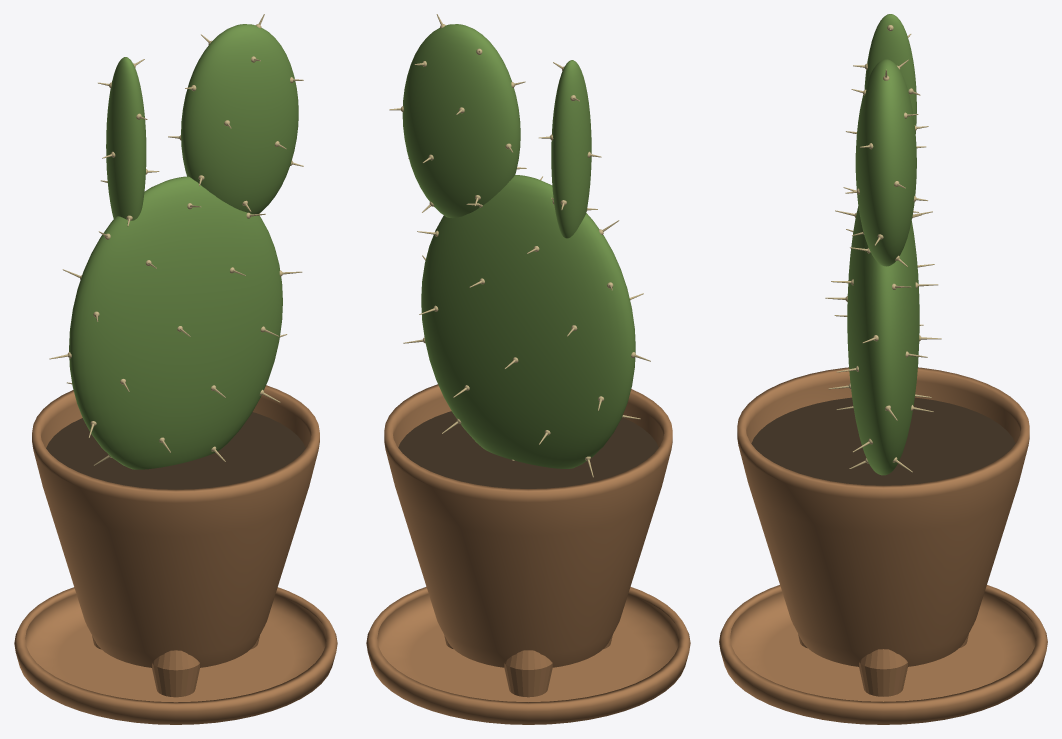
File: A-NEW-20261027-POTTED-CACTUS-001_LOD0_R1.fbx
3 views of the same model, side by side, from view 1: azimuth 30°, elevation 25°; view 2: azimuth 150°, elevation 25°; view 3: azimuth 270°, elevation 25° (orthographic).
Visible parts, largest first — view 1: main fleshy cactus pad, thick open pot, plain saucer, upper broad cactus pad, soil fill, young edge-on cactus pad, integral pot foot 2; view 2: main fleshy cactus pad, thick open pot, plain saucer, upper broad cactus pad, soil fill, young edge-on cactus pad, integral pot foot 1; view 3: thick open pot, plain saucer, soil fill, main fleshy cactus pad, upper broad cactus pad, young edge-on cactus pad, integral pot foot 0.
Part boxes in pixels (bbox=[...]): main fleshy cactus pad: bbox=[69, 176, 282, 469]; thick open pot: bbox=[32, 385, 319, 667]; plain saucer: bbox=[14, 587, 337, 724]; upper broad cactus pad: bbox=[181, 24, 298, 214]; soil fill: bbox=[46, 412, 305, 489]; young edge-on cactus pad: bbox=[106, 57, 146, 220]; integral pot foot 2: bbox=[152, 650, 199, 697]; main fleshy cactus pad: bbox=[421, 175, 635, 468]; thick open pot: bbox=[384, 384, 672, 667]; plain saucer: bbox=[366, 586, 690, 724]; upper broad cactus pad: bbox=[402, 24, 520, 218]; soil fill: bbox=[398, 411, 658, 488]; young edge-on cactus pad: bbox=[551, 60, 591, 238]; integral pot foot 1: bbox=[504, 650, 552, 697]; thick open pot: bbox=[737, 367, 1029, 666]; plain saucer: bbox=[719, 585, 1047, 724]; soil fill: bbox=[751, 397, 1015, 485]; main fleshy cactus pad: bbox=[847, 206, 919, 475]; upper broad cactus pad: bbox=[855, 59, 916, 266]; young edge-on cactus pad: bbox=[864, 14, 916, 133]; integral pot foot 0: bbox=[859, 649, 907, 696].
Size of the model in its own units: 23.6 by 50.65 by 23.6.
